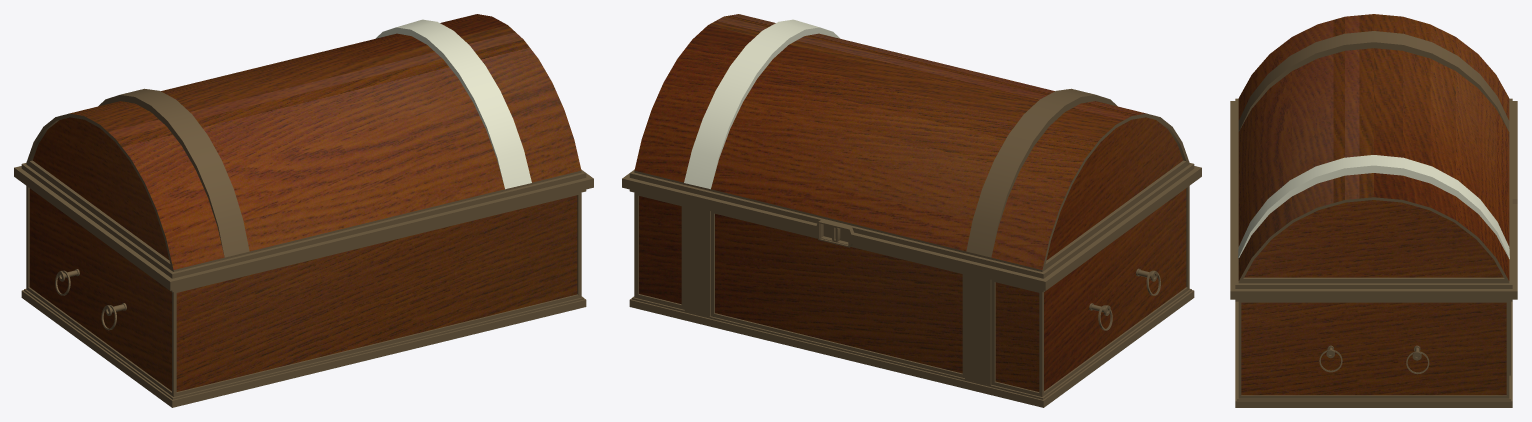
Rendered from Chest.fbx.
3 views of the same model, side by side, from view 1: azimuth 30°, elevation 25°; view 2: azimuth 150°, elevation 25°; view 3: azimuth 270°, elevation 25° (orthographic). The views are drawn at different scales.
Parts seen in each view (by area): view 1: Model; view 2: Model; view 3: Model.
Boxes of the visible parts, x1,y1,x2,y2 form: Model: (14,14,593,407); Model: (622,14,1201,407); Model: (1230,14,1517,407).
Bounding box in the file's own units: 282 × 144 × 173.
